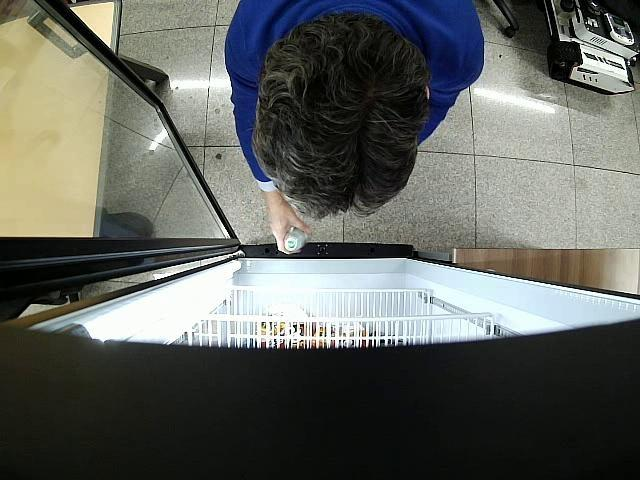18_trevi: (284, 228, 307, 253)
